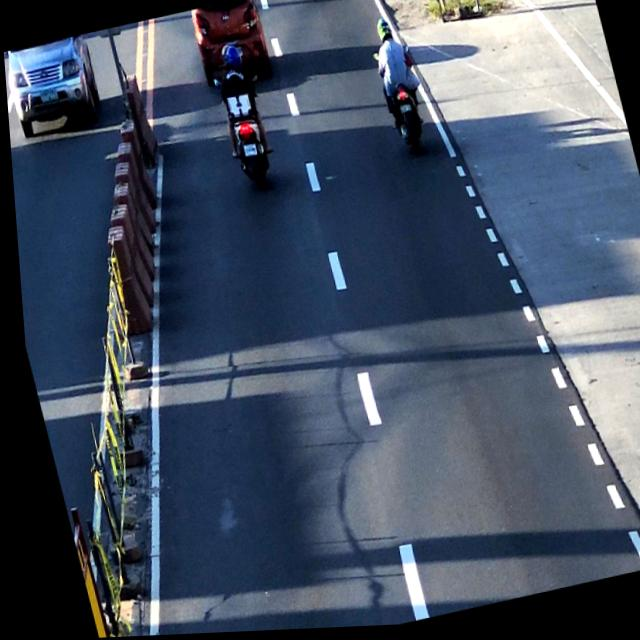Car: (187, 0, 276, 88)
License-Plate: (238, 141, 257, 161), (397, 107, 411, 118)
Motorcycle: (204, 44, 280, 197), (362, 15, 432, 162)
